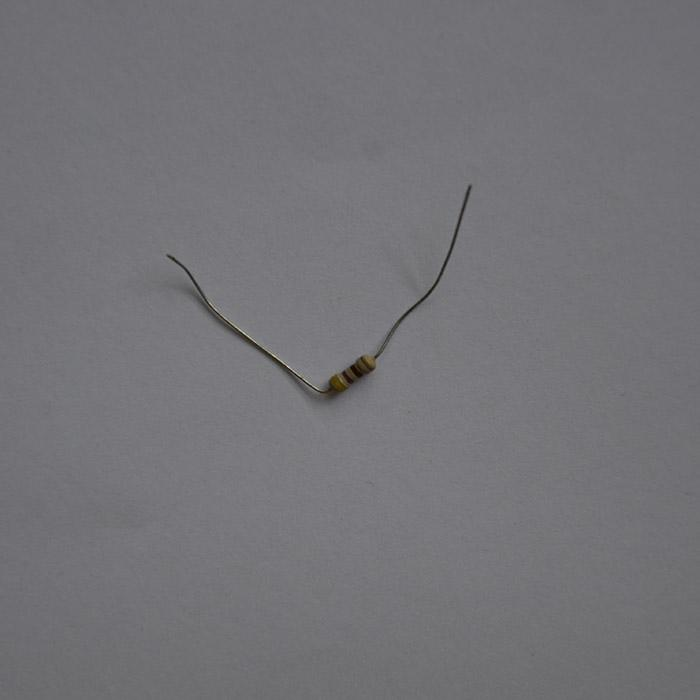resistor: (330, 354, 378, 393)
